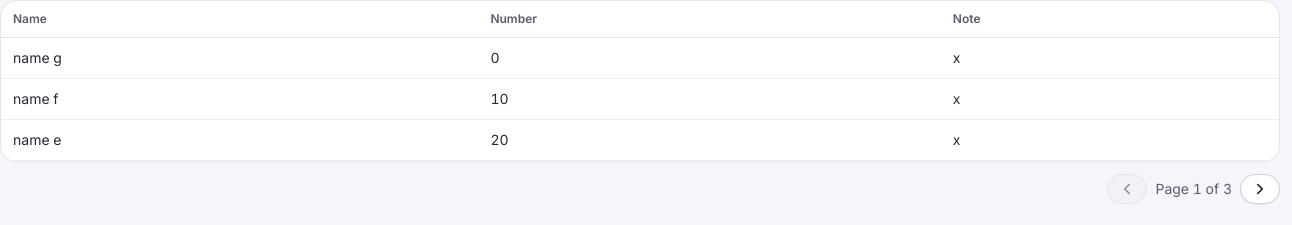
DataTable › keeps the server's order, sorts by a click on the heading and pages
Expected: the text "Page 1 of 3" is shown, [1155, 179, 1232, 199]
Click the button "Name": (30,19) [13, 11, 47, 27]
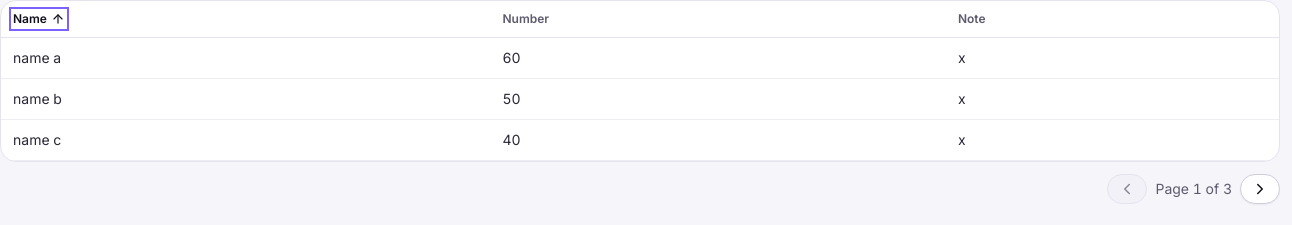
Expected: the column heading "Name" has attribute aria-sort="ascending", [1, 1, 490, 38]
Click the button "Name": (39,19) [13, 11, 65, 27]
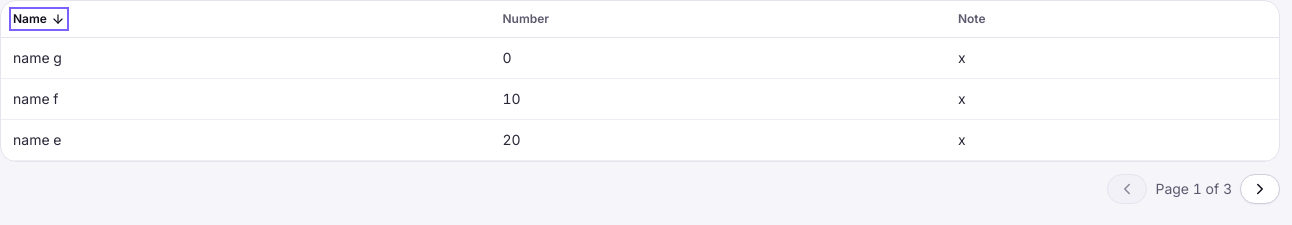
Expected: the button named "Previous page" is disabled, [1107, 174, 1147, 204]
Expected: the column heading "Name" has attribute aria-sort="descending", [1, 1, 490, 38]
Click the button named "Next page": (1260,189) [1240, 174, 1280, 204]
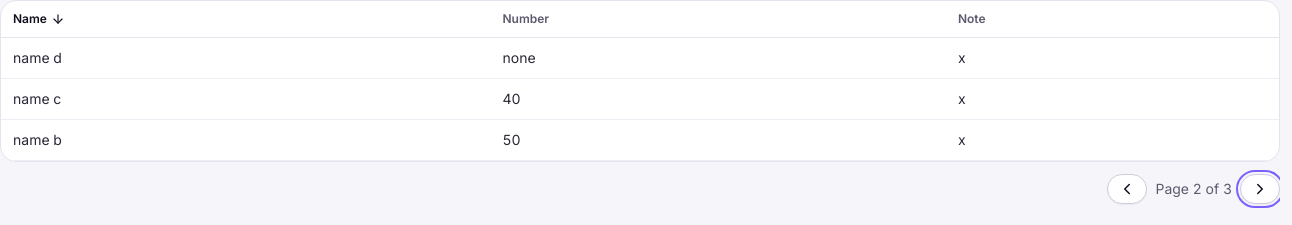
Click the button named "Next page": (1260,189) [1240, 174, 1280, 204]
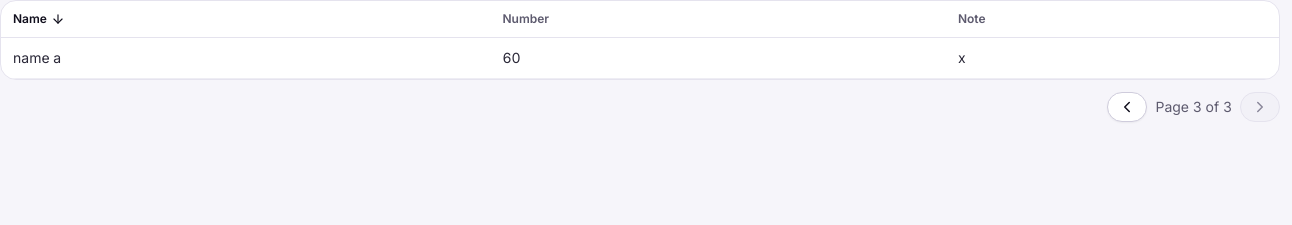
Expected: the text "Page 3 of 3" is shown, [1155, 97, 1232, 117]
Expected: the button named "Next page" is disabled, [1240, 92, 1280, 122]
A new order starts from the first page.
Click the button "Number": (526,19) [502, 11, 549, 27]
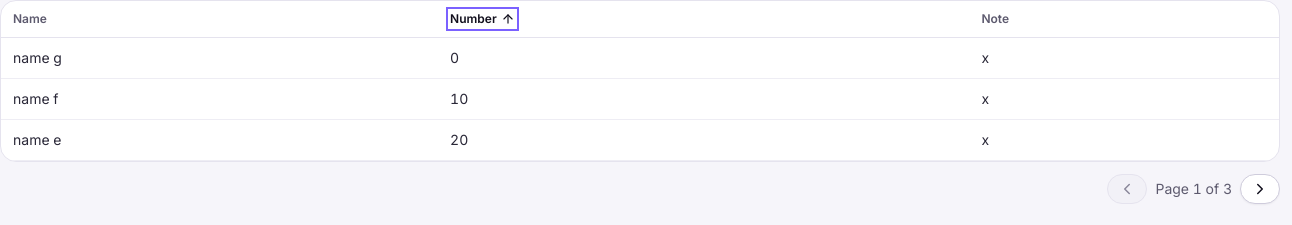
Expected: the text "Page 1 of 3" is shown, [1155, 179, 1232, 199]
